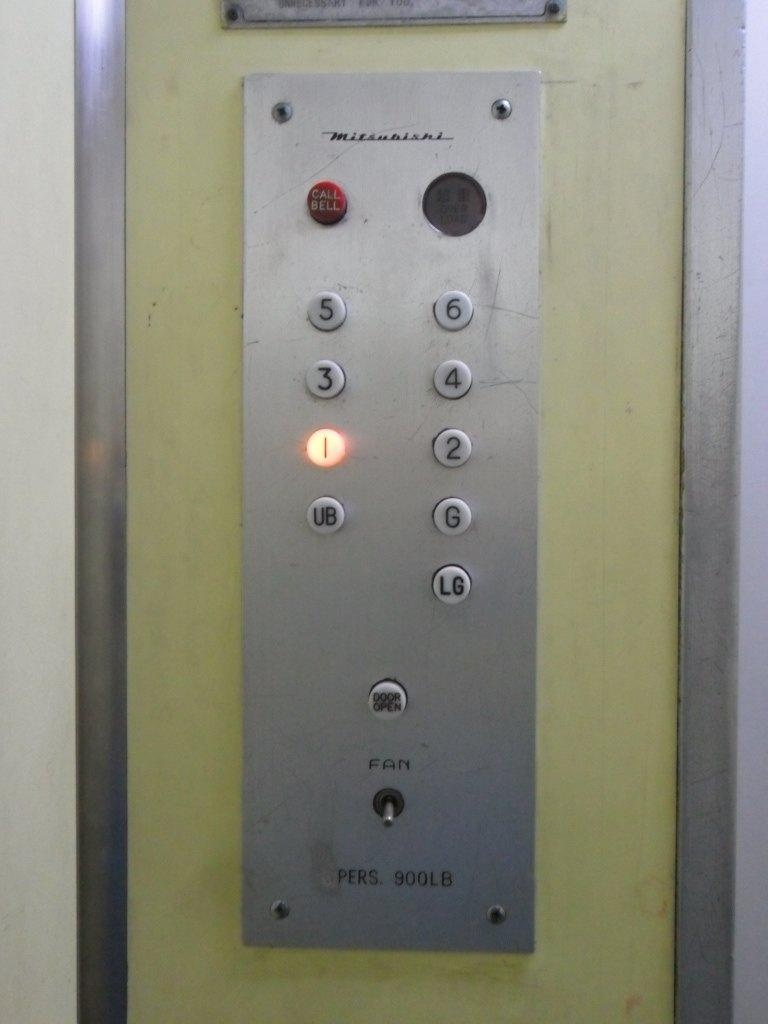1: (304, 424, 349, 471)
2: (429, 427, 473, 469)
3: (305, 359, 347, 402)
4: (433, 357, 473, 402)
5: (305, 289, 347, 333)
6: (432, 288, 473, 332)
G: (430, 494, 472, 536)
LG: (430, 561, 472, 605)
UB: (305, 494, 346, 536)
switch: (366, 784, 408, 831)
text_call bell: (304, 179, 349, 229)
text_door open: (365, 676, 410, 722)
text_overweight: (419, 168, 490, 240)
